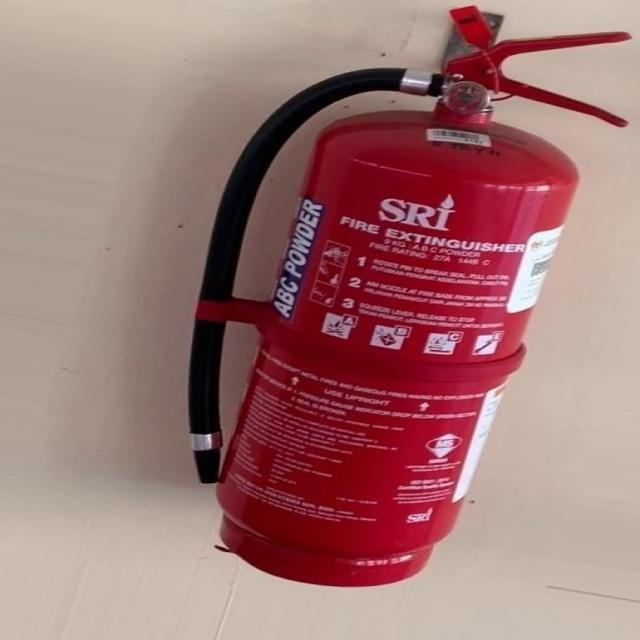fire_extinguisher: (176, 4, 638, 599)
